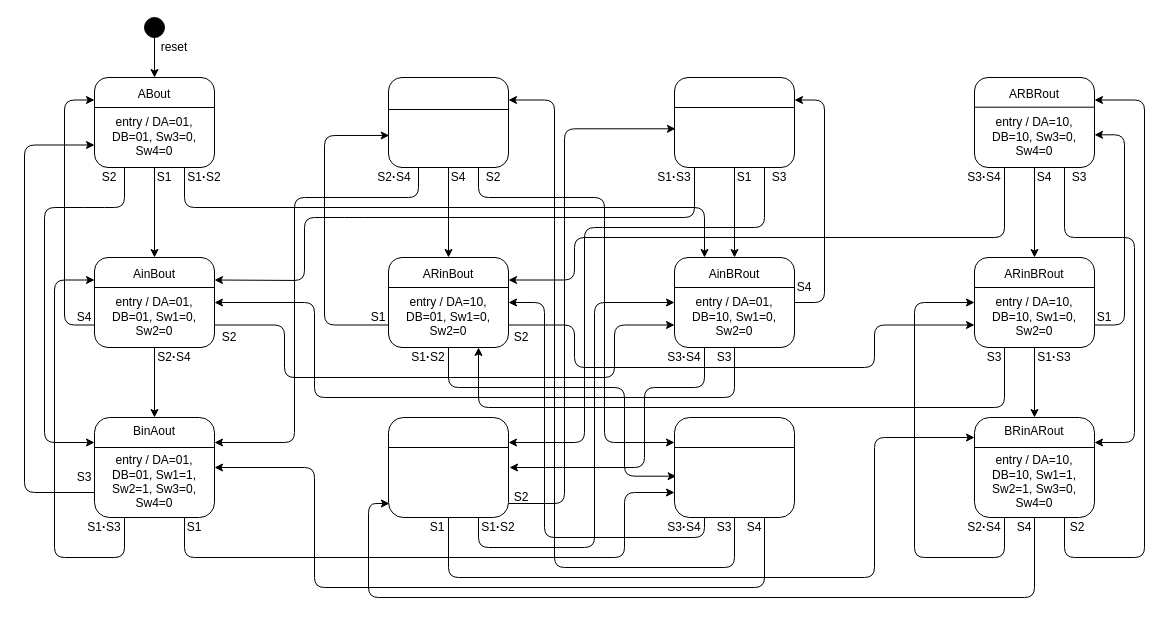
Image size: 1170x623. Some labels were removed from this diagram. Each missing label, with the centre of its shape:
"ABRout entry / DA=01, DB=10, Sw3=0, Sw4=0" goes at point (734, 122).
"ARBout entry / DA=10, DB=01, Sw3=0, Sw4=0" goes at point (448, 122).
"BinARout entry / DA=10, DB=01, Sw1=1, Sw2=1, Sw3=0, Sw4=0" goes at point (734, 467).
"BRinAout entry / DA=01, DB=10, Sw1=1, Sw2=1, Sw3=0, Sw4=0" goes at point (448, 467).
